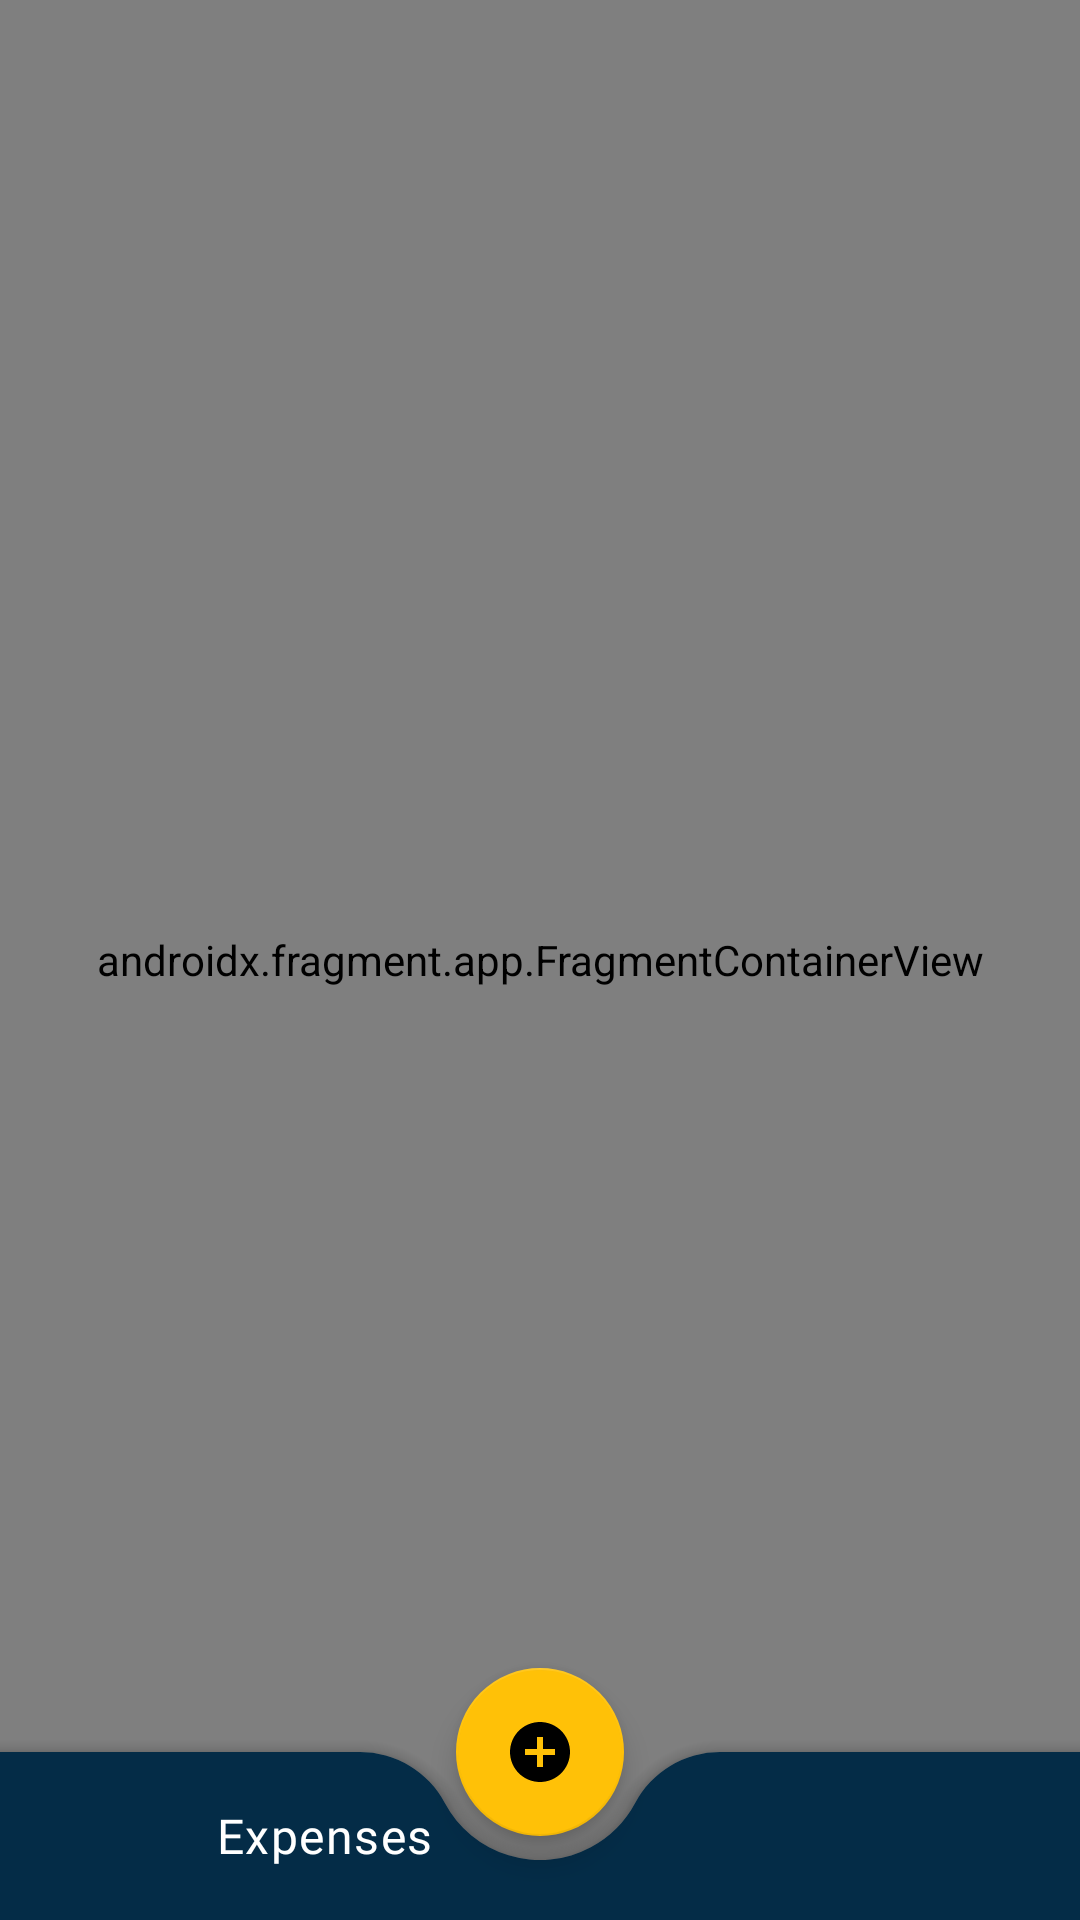

Screen size 1080px×1920px. Icon name, then its box in pixels as (x1, y1, x2, y2):
add expense: (456, 1668, 624, 1836)
